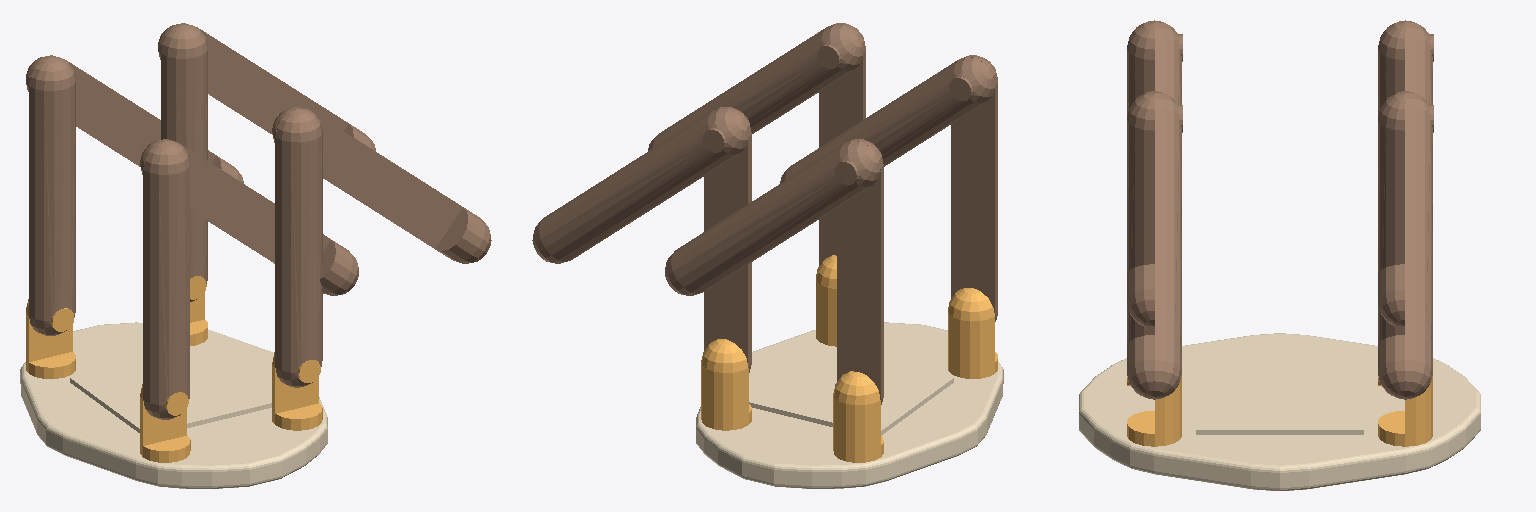
The robot description file, URDF, robot "assembly_1":
<!--URDF generated by ONSHAPE BY PTC INC, 1.212-->
<robot name="assembly_1">
    <link name="arm1">
        <inertial>
            <mass value="2.23009e-06" />
            <origin xyz="3.29003e-12 -0.0068787 -0.0228539" rpy="0 -0 0" />
            <inertia ixx="5.97231e-10" ixy="0" ixz="0" iyy="6.05003e-10" iyz="-9.5799e-12" izz="1.94128e-11" />
        </inertial>
        <visual>
            <origin xyz="0.0211943 -0.0152254 -0.065" rpy="0 -0 0" />
            <geometry>
                <mesh filename="package://assembly_1/meshes/77.stl" scale="1 1 1" />
            </geometry>
            <material name="0.662745_0.545098_0.462745_0.000000_0.000000">
                <texture />
                <color rgba="0.662745 0.545098 0.462745 1" />
            </material>
        </visual>
    </link>
    <link name="arm1_1">
        <inertial>
            <mass value="2.23009e-06" />
            <origin xyz="3.29001e-12 0.00315733 0.0271461" rpy="0 -0 0" />
            <inertia ixx="5.97231e-10" ixy="0" ixz="0" iyy="6.05003e-10" iyz="-9.5799e-12" izz="1.94128e-11" />
        </inertial>
        <visual>
            <origin xyz="0.0211943 -0.00518933 -0.015" rpy="0 -0 0" />
            <geometry>
                <mesh filename="package://assembly_1/meshes/77.stl" scale="1 1 1" />
            </geometry>
            <material name="0.662745_0.545098_0.462745_0.000000_0.000000">
                <texture />
                <color rgba="0.662745 0.545098 0.462745 1" />
            </material>
        </visual>
    </link>
    <link name="arm1_2">
        <inertial>
            <mass value="2.23009e-06" />
            <origin xyz="3.29001e-12 0.00315733 0.0271461" rpy="0 -0 0" />
            <inertia ixx="5.97231e-10" ixy="0" ixz="0" iyy="6.05003e-10" iyz="-9.5799e-12" izz="1.94128e-11" />
        </inertial>
        <visual>
            <origin xyz="0.0211943 -0.00518933 -0.015" rpy="0 -0 0" />
            <geometry>
                <mesh filename="package://assembly_1/meshes/77.stl" scale="1 1 1" />
            </geometry>
            <material name="0.662745_0.545098_0.462745_0.000000_0.000000">
                <texture />
                <color rgba="0.662745 0.545098 0.462745 1" />
            </material>
        </visual>
    </link>
    <link name="arm1_3">
        <inertial>
            <mass value="2.23009e-06" />
            <origin xyz="3.29001e-12 0.00315733 0.0271461" rpy="0 -0 0" />
            <inertia ixx="5.97231e-10" ixy="0" ixz="0" iyy="6.05003e-10" iyz="-9.5799e-12" izz="1.94128e-11" />
        </inertial>
        <visual>
            <origin xyz="0.0211943 -0.00518933 -0.015" rpy="0 -0 0" />
            <geometry>
                <mesh filename="package://assembly_1/meshes/77.stl" scale="1 1 1" />
            </geometry>
            <material name="0.662745_0.545098_0.462745_0.000000_0.000000">
                <texture />
                <color rgba="0.662745 0.545098 0.462745 1" />
            </material>
        </visual>
    </link>
    <link name="arm2">
        <inertial>
            <mass value="2.45916e-06" />
            <origin xyz="0.0223495 -0.00350176 -0.0187535" rpy="0 -0 0" />
            <inertia ixx="3.03813e-10" ixy="2.0019e-11" ixz="3.33126e-10" iyy="7.07171e-10" iyz="-1.6798e-11" izz="4.21291e-10" />
        </inertial>
        <visual>
            <origin xyz="0.0411943 -0.00276138 -0.065" rpy="0 -0 0" />
            <geometry>
                <mesh filename="package://assembly_1/meshes/67.stl" scale="1 1 1" />
            </geometry>
            <material name="0.662745_0.545098_0.462745_0.000000_0.000000">
                <texture />
                <color rgba="0.662745 0.545098 0.462745 1" />
            </material>
        </visual>
    </link>
    <link name="arm2_1">
        <inertial>
            <mass value="2.45916e-06" />
            <origin xyz="0.0223495 -0.00350176 -0.0187535" rpy="0 -0 0" />
            <inertia ixx="3.03813e-10" ixy="2.0019e-11" ixz="3.33126e-10" iyy="7.07171e-10" iyz="-1.6798e-11" izz="4.21291e-10" />
        </inertial>
        <visual>
            <origin xyz="0.0411943 -0.00276138 -0.065" rpy="0 -0 0" />
            <geometry>
                <mesh filename="package://assembly_1/meshes/67.stl" scale="1 1 1" />
            </geometry>
            <material name="0.662745_0.545098_0.462745_0.000000_0.000000">
                <texture />
                <color rgba="0.662745 0.545098 0.462745 1" />
            </material>
        </visual>
    </link>
    <link name="arm2_2">
        <inertial>
            <mass value="2.45916e-06" />
            <origin xyz="0.0223495 -0.00350176 -0.0187535" rpy="0 -0 0" />
            <inertia ixx="3.03813e-10" ixy="2.0019e-11" ixz="3.33126e-10" iyy="7.07171e-10" iyz="-1.6798e-11" izz="4.21291e-10" />
        </inertial>
        <visual>
            <origin xyz="0.0411943 -0.00276138 -0.065" rpy="0 -0 0" />
            <geometry>
                <mesh filename="package://assembly_1/meshes/67.stl" scale="1 1 1" />
            </geometry>
            <material name="0.662745_0.545098_0.462745_0.000000_0.000000">
                <texture />
                <color rgba="0.662745 0.545098 0.462745 1" />
            </material>
        </visual>
    </link>
    <link name="arm2_3">
        <inertial>
            <mass value="2.45916e-06" />
            <origin xyz="-0.0188448 -0.000740381 0.0462465" rpy="0 -0 0" />
            <inertia ixx="3.03813e-10" ixy="2.0019e-11" ixz="3.33126e-10" iyy="7.07171e-10" iyz="-1.6798e-11" izz="4.21291e-10" />
        </inertial>
        <visual>
            <origin xyz="0 0 0" rpy="0 -0 0" />
            <geometry>
                <mesh filename="package://assembly_1/meshes/67.stl" scale="1 1 1" />
            </geometry>
            <material name="0.662745_0.545098_0.462745_0.000000_0.000000">
                <texture />
                <color rgba="0.662745 0.545098 0.462745 1" />
            </material>
        </visual>
    </link>
    <link name="base arm">
        <inertial>
            <mass value="1.01447e-06" />
            <origin xyz="6.93889e-18 0.00582144 -0.00653226" rpy="0 -0 0" />
            <inertia ixx="3.84841e-11" ixy="0" ixz="0" iyy="3.85039e-11" iyz="-1.69355e-12" izz="1.14135e-11" />
        </inertial>
        <visual>
            <origin xyz="0.0411943 0.00727465 -0.015" rpy="0 -0 0" />
            <geometry>
                <mesh filename="package://assembly_1/meshes/63.stl" scale="1 1 1" />
            </geometry>
            <material name="1.000000_0.772549_0.439216_0.000000_0.000000">
                <texture />
                <color rgba="1 0.772549 0.439216 1" />
            </material>
        </visual>
    </link>
    <link name="base arm_1">
        <inertial>
            <mass value="1.01447e-06" />
            <origin xyz="6.93889e-18 0.000821445 0.00846774" rpy="0 -0 0" />
            <inertia ixx="3.84841e-11" ixy="0" ixz="0" iyy="3.85039e-11" iyz="-1.69355e-12" izz="1.14135e-11" />
        </inertial>
        <visual>
            <origin xyz="0.0411943 0.00227465 0" rpy="0 -0 0" />
            <geometry>
                <mesh filename="package://assembly_1/meshes/63.stl" scale="1 1 1" />
            </geometry>
            <material name="1.000000_0.772549_0.439216_0.000000_0.000000">
                <texture />
                <color rgba="1 0.772549 0.439216 1" />
            </material>
        </visual>
    </link>
    <link name="base arm_2">
        <inertial>
            <mass value="1.01447e-06" />
            <origin xyz="6.93889e-18 0.000821445 0.00846774" rpy="0 -0 0" />
            <inertia ixx="3.84841e-11" ixy="0" ixz="0" iyy="3.85039e-11" iyz="-1.69355e-12" izz="1.14135e-11" />
        </inertial>
        <visual>
            <origin xyz="0.0411943 0.00227465 0" rpy="0 -0 0" />
            <geometry>
                <mesh filename="package://assembly_1/meshes/63.stl" scale="1 1 1" />
            </geometry>
            <material name="1.000000_0.772549_0.439216_0.000000_0.000000">
                <texture />
                <color rgba="1 0.772549 0.439216 1" />
            </material>
        </visual>
    </link>
    <link name="base arm_3">
        <inertial>
            <mass value="1.01447e-06" />
            <origin xyz="6.93889e-18 0.000821445 0.00846774" rpy="0 -0 0" />
            <inertia ixx="3.84841e-11" ixy="0" ixz="0" iyy="3.85039e-11" iyz="-1.69355e-12" izz="1.14135e-11" />
        </inertial>
        <visual>
            <origin xyz="0.0411943 0.00227465 0" rpy="0 -0 0" />
            <geometry>
                <mesh filename="package://assembly_1/meshes/63.stl" scale="1 1 1" />
            </geometry>
            <material name="1.000000_0.772549_0.439216_0.000000_0.000000">
                <texture />
                <color rgba="1 0.772549 0.439216 1" />
            </material>
        </visual>
    </link>
    <link name="body">
        <inertial>
            <mass value="1.59215e-05" />
            <origin xyz="-0.015 -0.0225 0.00010792" rpy="0 -0 0" />
            <inertia ixx="4.88946e-09" ixy="0" ixz="0" iyy="2.98176e-09" iyz="0" izz="7.7932e-09" />
        </inertial>
        <visual>
            <origin xyz="0.00529154 -0.0225 -0.0025" rpy="0 -0 0" />
            <geometry>
                <mesh filename="package://assembly_1/meshes/59.stl" scale="1 1 1" />
            </geometry>
            <material name="0.952941_0.894118_0.788235_0.000000_0.000000">
                <texture />
                <color rgba="0.952941 0.894118 0.788235 1" />
            </material>
        </visual>
    </link>
    <link name="root" />
    <joint name="Revolute 1_0" type="continuous">
        <origin xyz="-2.77556e-17 -0.045 0" rpy="-2.11758e-22 -8.47033e-22 2.47409e-22" />
        <axis xyz="0 0 -1" />
        <parent link="body" />
        <child link="base arm_2" />
    </joint>
    <joint name="Revolute 2 (1)_0" type="continuous">
        <origin xyz="0 -0.005 0.015" rpy="1.05879e-22 -8.47033e-22 1.22465e-16" />
        <axis xyz="1.22465e-16 1 1.27465e-32" />
        <parent link="base arm_3" />
        <child link="arm1_1" />
    </joint>
    <joint name="Revolute 2 (2)_0" type="continuous">
        <origin xyz="2.77556e-17 -0.005 0.015" rpy="1.05879e-22 -8.47033e-22 1.22465e-16" />
        <axis xyz="1.22465e-16 1 1.27465e-32" />
        <parent link="base arm_1" />
        <child link="arm1_2" />
    </joint>
    <joint name="Revolute 2 (3)_0" type="continuous">
        <origin xyz="0 -0.010036 -0.05" rpy="-1.05879e-22 1.23259e-32 -1.22465e-16" />
        <axis xyz="0 1 0" />
        <parent link="arm1" />
        <child link="base arm" />
    </joint>
    <joint name="Revolute 2_0" type="continuous">
        <origin xyz="-1.38778e-17 -0.005 0.015" rpy="-2.11758e-22 -8.47033e-22 1.22465e-16" />
        <axis xyz="1.22465e-16 1 1.27465e-32" />
        <parent link="base arm_2" />
        <child link="arm1_3" />
    </joint>
    <joint name="Revolute 3 (1)_0" type="continuous">
        <origin xyz="0 0.010036 0.05" rpy="-1.05879e-22 1.30977e-44 2.47408e-22" />
        <axis xyz="-1.22465e-16 -1 -1.64586e-32" />
        <parent link="arm1_1" />
        <child link="arm2" />
    </joint>
    <joint name="Revolute 3 (2)_0" type="continuous">
        <origin xyz="2.77556e-17 0.010036 0.05" rpy="-1.05879e-22 1.30977e-44 2.47408e-22" />
        <axis xyz="-1.22465e-16 -1 -1.64586e-32" />
        <parent link="arm1_2" />
        <child link="arm2_1" />
    </joint>
    <joint name="Revolute 3 (3)_0" type="continuous">
        <origin xyz="-0.0411943 0.00276138 0.065" rpy="-1.05879e-22 1.30977e-44 2.47408e-22" />
        <axis xyz="-1.22465e-16 -1 -1.27465e-32" />
        <parent link="arm2_3" />
        <child link="arm1" />
    </joint>
    <joint name="Revolute 3_0" type="continuous">
        <origin xyz="-2.77556e-17 0.010036 0.05" rpy="-1.05879e-22 1.30977e-44 2.47408e-22" />
        <axis xyz="-1.22465e-16 -1 -1.64586e-32" />
        <parent link="arm1_3" />
        <child link="arm2_2" />
    </joint>
    <joint name="Revolute 4_0" type="continuous">
        <origin xyz="-0.03 -0.045 0" rpy="-2.11758e-22 -8.47033e-22 2.83059e-22" />
        <axis xyz="0 0 -1" />
        <parent link="body" />
        <child link="base arm_3" />
    </joint>
    <joint name="Revolute 5_0" type="continuous">
        <origin xyz="-0.03 -2.77556e-17 0" rpy="-2.11758e-22 -8.47033e-22 2.83059e-22" />
        <axis xyz="0 0 -1" />
        <parent link="body" />
        <child link="base arm_1" />
    </joint>
    <joint name="Revolute 6_0" type="continuous">
        <origin xyz="2.08167e-16 0.005 -0.015" rpy="1.05879e-22 -8.47033e-22 -1.4046e-22" />
        <axis xyz="0 0 -1" />
        <parent link="base arm" />
        <child link="body" />
    </joint>
    <joint name="hanging_node_to_root_joint_0" type="fixed">
        <origin xyz="-0.0665719 0.0700615 0.0288832" rpy="1.01721e-06 -9.86836e-06 2.28534e-06" />
        <axis xyz="0 0 1" />
        <parent link="root" />
        <child link="arm2_3" />
    </joint>
</robot>

--- Render facts (derived) ---
The picture shows the robot from 3 angles, left to right: view 1: azimuth 30°, elevation 25°; view 2: azimuth 150°, elevation 25°; view 3: azimuth 270°, elevation 25°; orthographic projection.
Robot: assembly_1 — 14 links, 13 joints (12 continuous, 1 fixed); root link root; default pose: every joint at zero.
Visible links, largest first — view 1: body, arm1_3, arm1_2, arm1_1, arm2_2, arm2, arm1, arm2_3, arm2_1, base arm_3, base arm_2, base arm_1 (+1 smaller); view 2: body, arm2_3, arm2_1, arm1_2, arm1_1, arm2_2, arm2, arm1, arm1_3, base arm_1, base arm, base arm_3 (+1 smaller); view 3: body, arm2_3, arm2_2, arm1_3, arm1, arm2, arm2_1, base arm, base arm_2, arm1_1, arm1_2.
Boxes of the visible links, x1=… form: body: x1=20, y1=322, x2=327, y2=488; arm1_3: x1=274, y1=109, x2=322, y2=387; arm1_2: x1=28, y1=57, x2=75, y2=335; arm1_1: x1=142, y1=141, x2=189, y2=419; arm2_2: x1=272, y1=107, x2=491, y2=263; arm2: x1=140, y1=139, x2=358, y2=295; arm1: x1=160, y1=25, x2=207, y2=301; arm2_3: x1=158, y1=23, x2=375, y2=150; arm2_1: x1=26, y1=55, x2=243, y2=183; base arm_3: x1=140, y1=384, x2=190, y2=462; base arm_2: x1=272, y1=352, x2=322, y2=430; base arm_1: x1=26, y1=299, x2=75, y2=378; body: x1=696, y1=322, x2=1003, y2=488; arm2_3: x1=532, y1=108, x2=747, y2=263; arm2_1: x1=665, y1=141, x2=880, y2=295; arm1_2: x1=835, y1=139, x2=883, y2=404; arm1_1: x1=949, y1=55, x2=997, y2=321; arm2_2: x1=648, y1=25, x2=862, y2=150; arm2: x1=780, y1=57, x2=994, y2=183; arm1: x1=703, y1=107, x2=751, y2=372; arm1_3: x1=817, y1=23, x2=865, y2=265; base arm_1: x1=833, y1=371, x2=883, y2=462; base arm: x1=701, y1=339, x2=751, y2=430; base arm_3: x1=948, y1=288, x2=997, y2=378; body: x1=1079, y1=333, x2=1480, y2=490; arm2_3: x1=1378, y1=91, x2=1432, y2=399; arm2_2: x1=1127, y1=91, x2=1181, y2=399; arm1_3: x1=1127, y1=91, x2=1182, y2=344; arm1: x1=1378, y1=91, x2=1433, y2=344; arm2: x1=1127, y1=21, x2=1181, y2=328; arm2_1: x1=1378, y1=21, x2=1432, y2=328; base arm: x1=1378, y1=376, x2=1432, y2=446; base arm_2: x1=1127, y1=376, x2=1181, y2=446; arm1_1: x1=1127, y1=20, x2=1182, y2=115; arm1_2: x1=1378, y1=20, x2=1433, y2=115.
Bounding box of the posed robot: 0.0873 × 0.0721 × 0.0725 m (x, y, z).
13 mesh visuals loaded from 4 distinct referenced files (4 ASCII STL).
